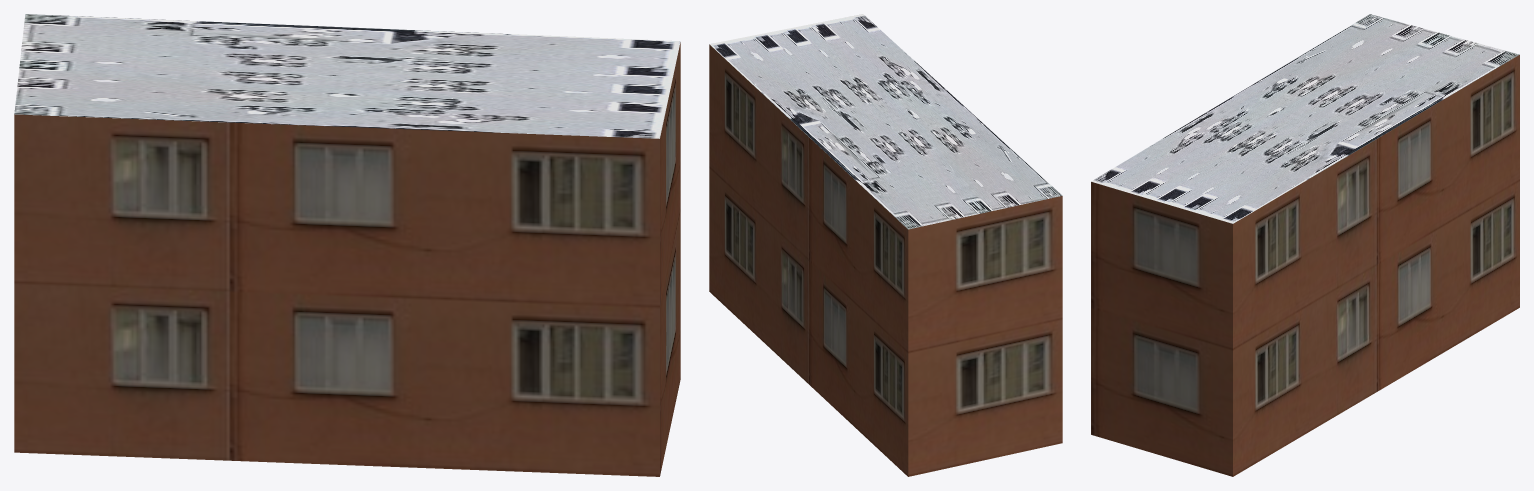
The model's file is ResTex__2099.fbx.
3 views of the same model, side by side, from view 1: azimuth 30°, elevation 25°; view 2: azimuth 150°, elevation 25°; view 3: azimuth 270°, elevation 25° (orthographic). The views are drawn at different scales.
Parts seen in each view (by area): view 1: CityEngineMaterial_20_m, CityEngineMaterial_m; view 2: CityEngineMaterial_20_m, CityEngineMaterial_m; view 3: CityEngineMaterial_20_m, CityEngineMaterial_m.
Boxes of the visible parts, x1,y1,x2,y2 form: CityEngineMaterial_20_m: (14, 42, 680, 476); CityEngineMaterial_m: (14, 14, 680, 138); CityEngineMaterial_20_m: (709, 44, 1062, 476); CityEngineMaterial_m: (709, 14, 1062, 229); CityEngineMaterial_20_m: (1091, 55, 1519, 476); CityEngineMaterial_m: (1091, 14, 1519, 223).
Bounding box in the file's own units: 10.67 × 6 × 9.22.
Materials: 2 (2 with a texture image).
